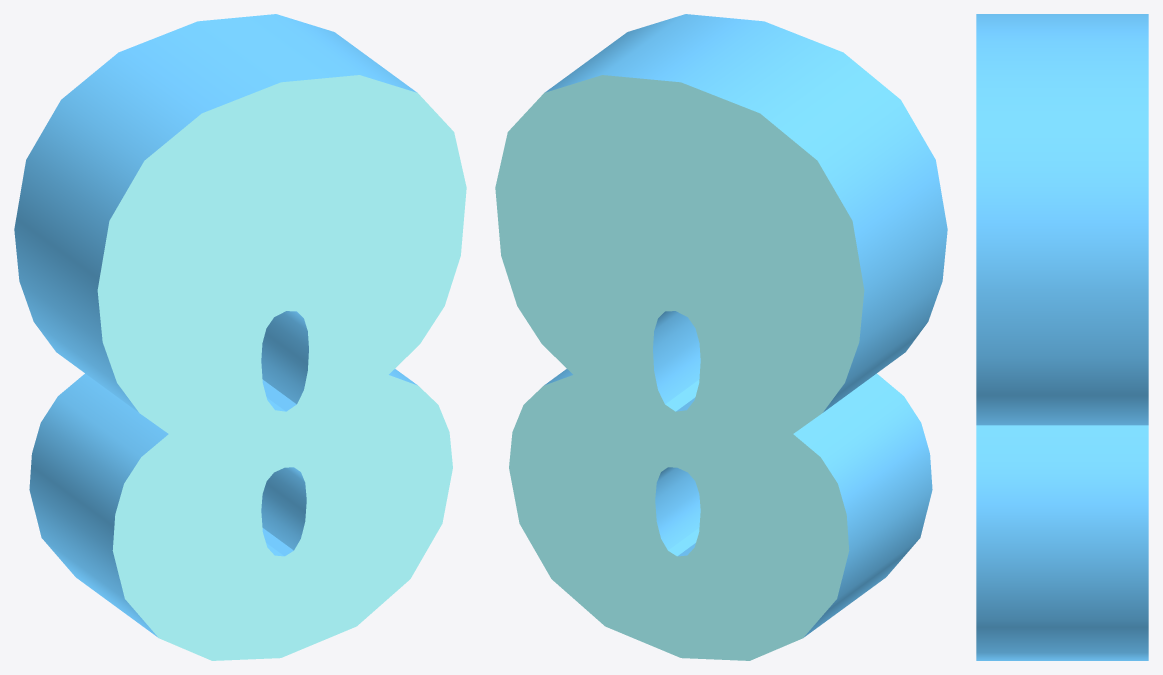
The picture shows the model from 3 angles, left to right: view 1: azimuth 30°, elevation 25°; view 2: azimuth 150°, elevation 25°; view 3: azimuth 270°, elevation 25°; orthographic projection. The views are drawn at different scales.
Visible parts, largest first — view 1: 8; view 2: 8; view 3: 8.
Part boxes in pixels (left/top/right/bottom): 8: left=14, top=14, right=466, bottom=660; 8: left=495, top=14, right=947, bottom=660; 8: left=976, top=14, right=1148, bottom=660.
Size of what is drawn, in the model's own units: 0.4092 by 0.6101 by 0.16.
